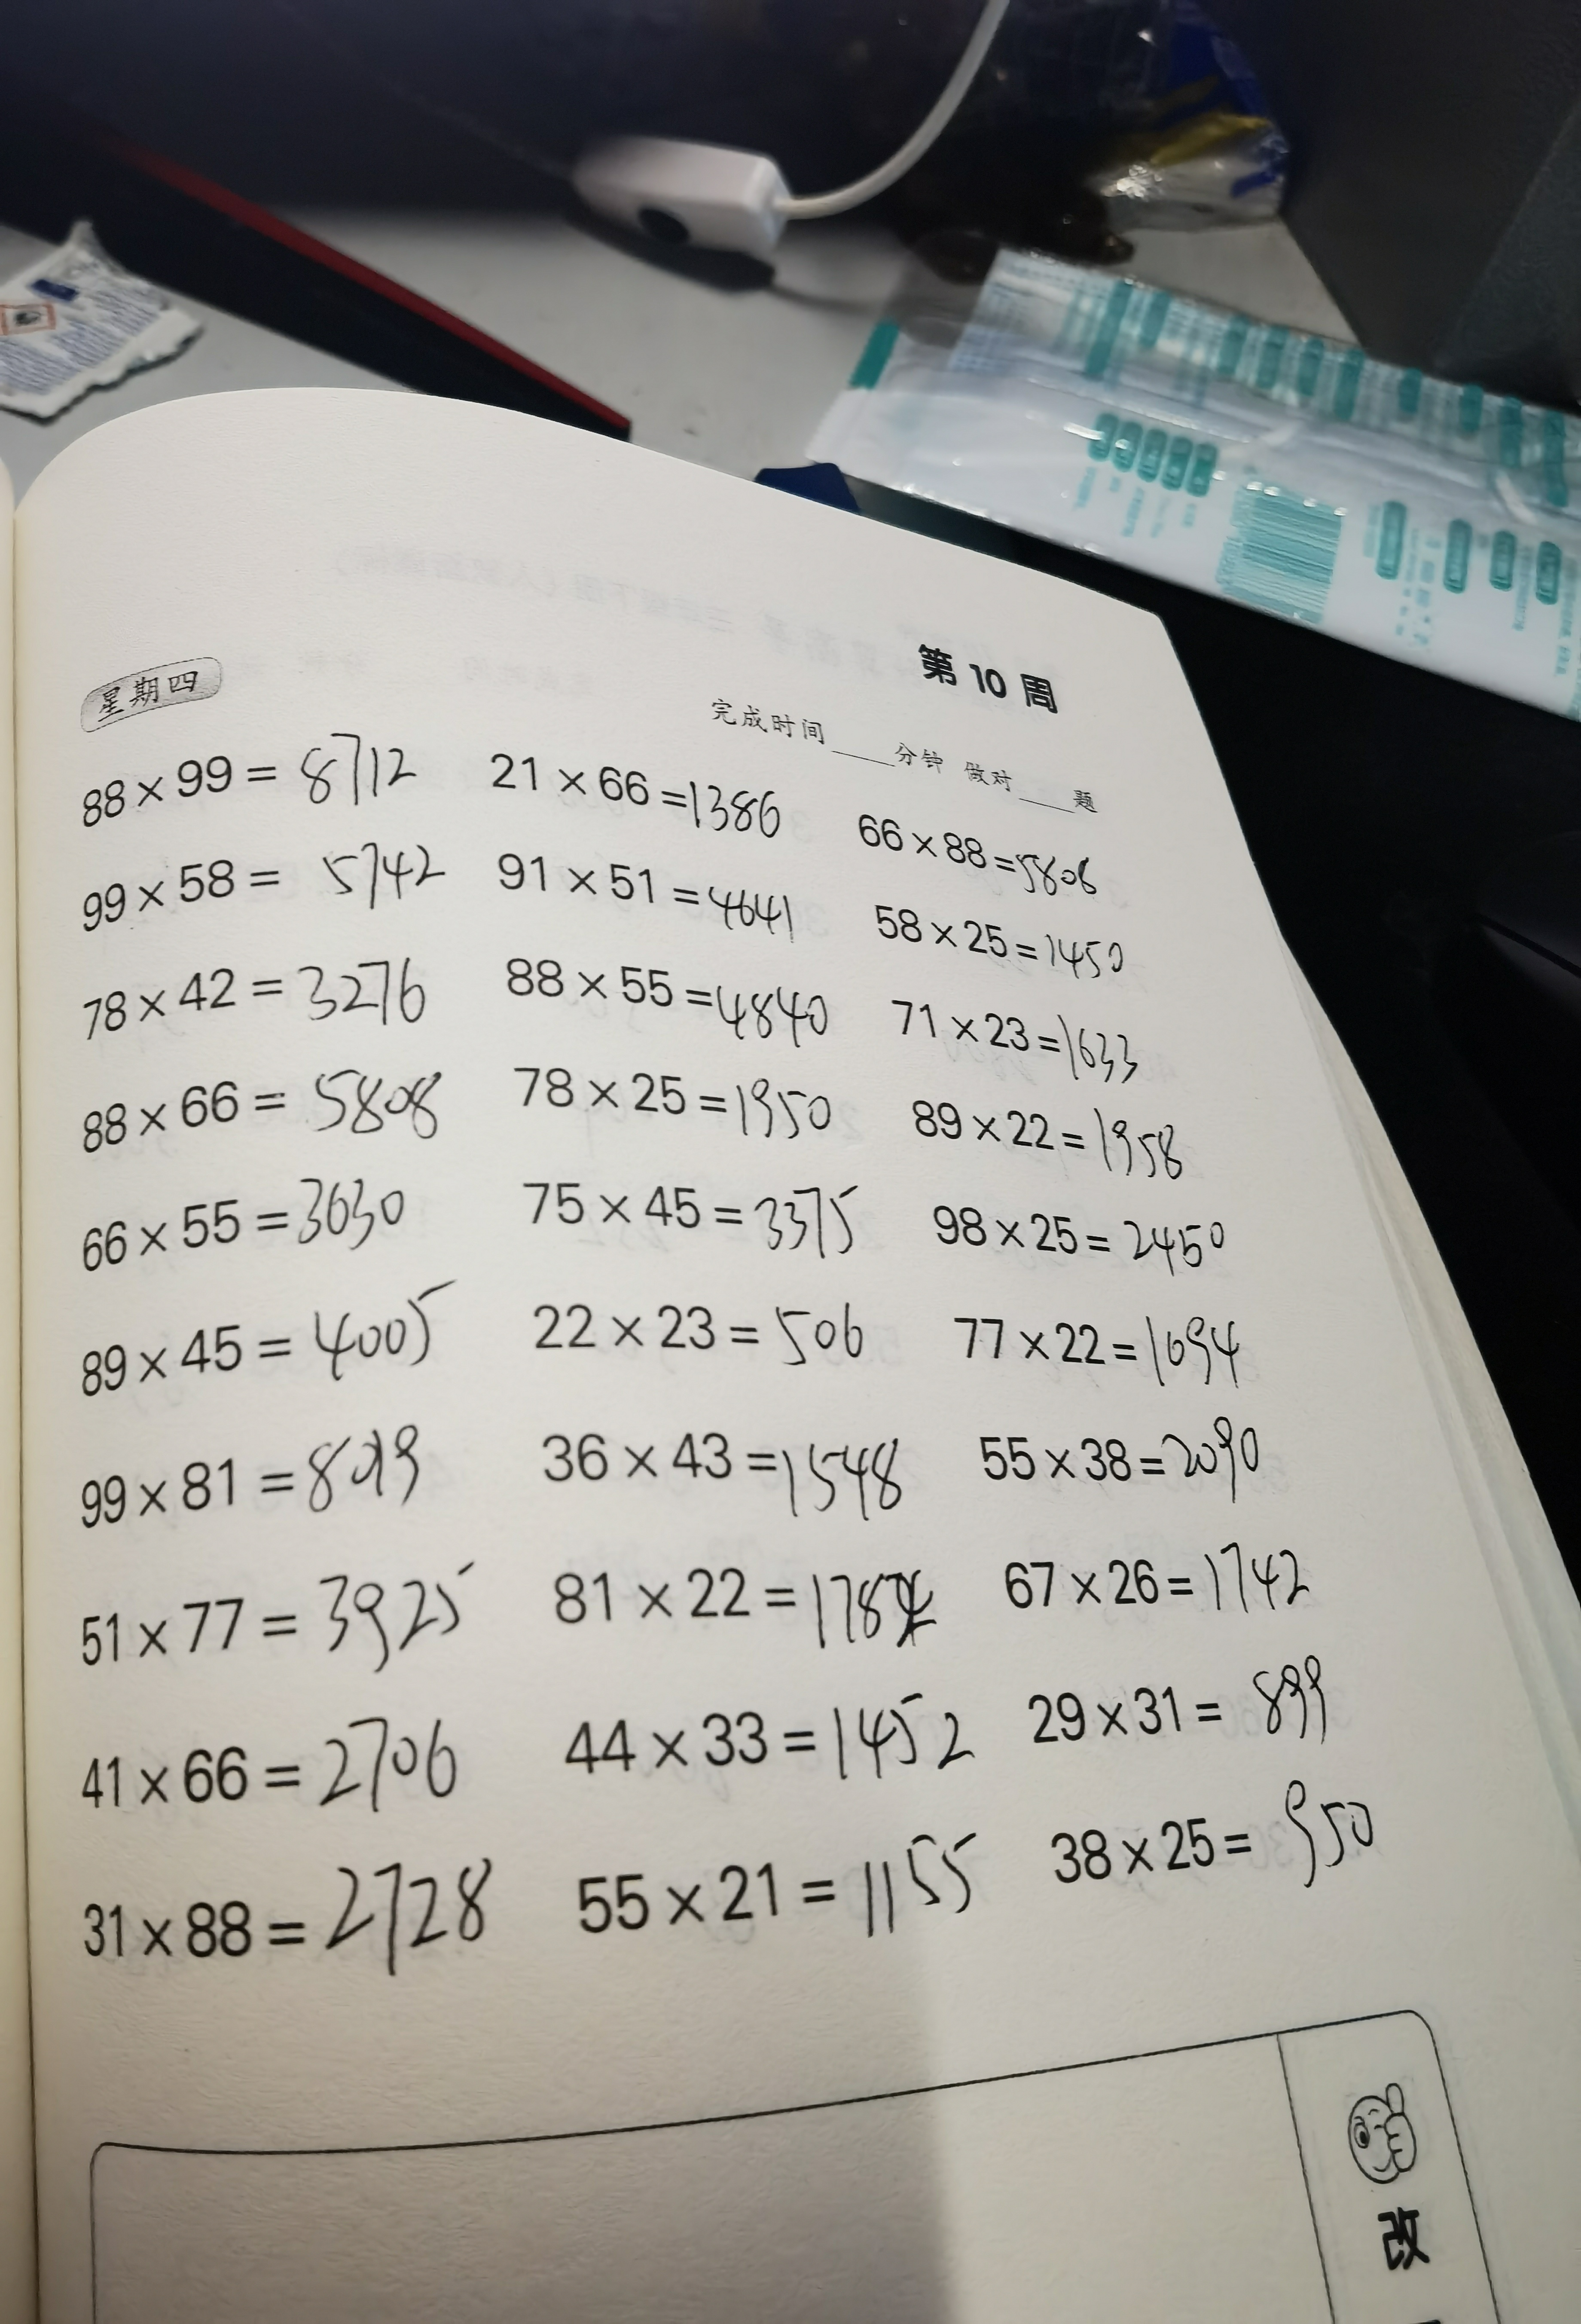equation: (39, 1855, 498, 1973), (62, 1678, 459, 1814), (46, 1553, 503, 1662), (64, 1415, 445, 1544), (535, 1398, 926, 1523), (49, 1297, 468, 1405), (457, 716, 799, 847), (528, 1551, 942, 1659), (563, 1842, 1025, 1936), (1050, 1779, 1394, 1904), (526, 1249, 873, 1373), (545, 1694, 958, 1795), (65, 822, 450, 930), (1000, 1516, 1348, 1634), (64, 1057, 452, 1158), (529, 1140, 944, 1233), (1013, 1641, 1346, 1756), (487, 842, 829, 953), (489, 955, 866, 1055), (48, 1170, 427, 1269), (948, 1286, 1279, 1398), (44, 729, 431, 824), (847, 796, 1145, 911), (967, 1387, 1292, 1489), (889, 986, 1180, 1098), (503, 1064, 845, 1152), (81, 953, 439, 1031), (891, 1087, 1193, 1177), (935, 1191, 1235, 1281), (872, 886, 1142, 983)
